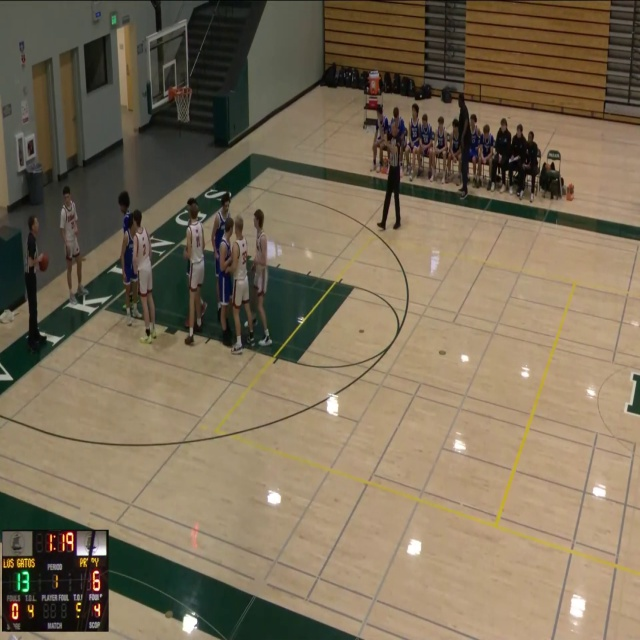Basketball: (37, 253, 49, 272)
